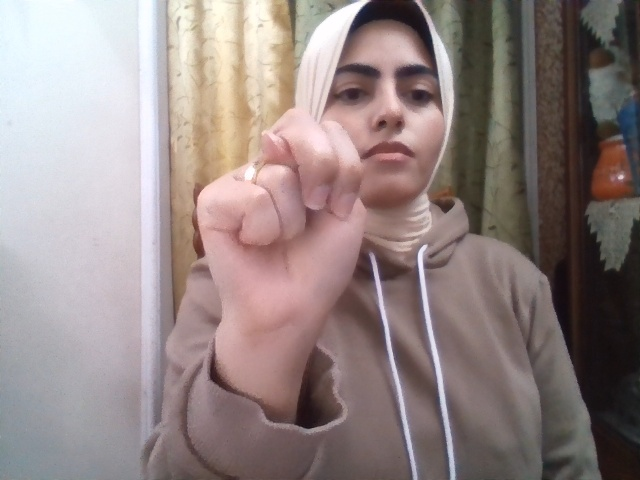N: (196, 109, 366, 339)
